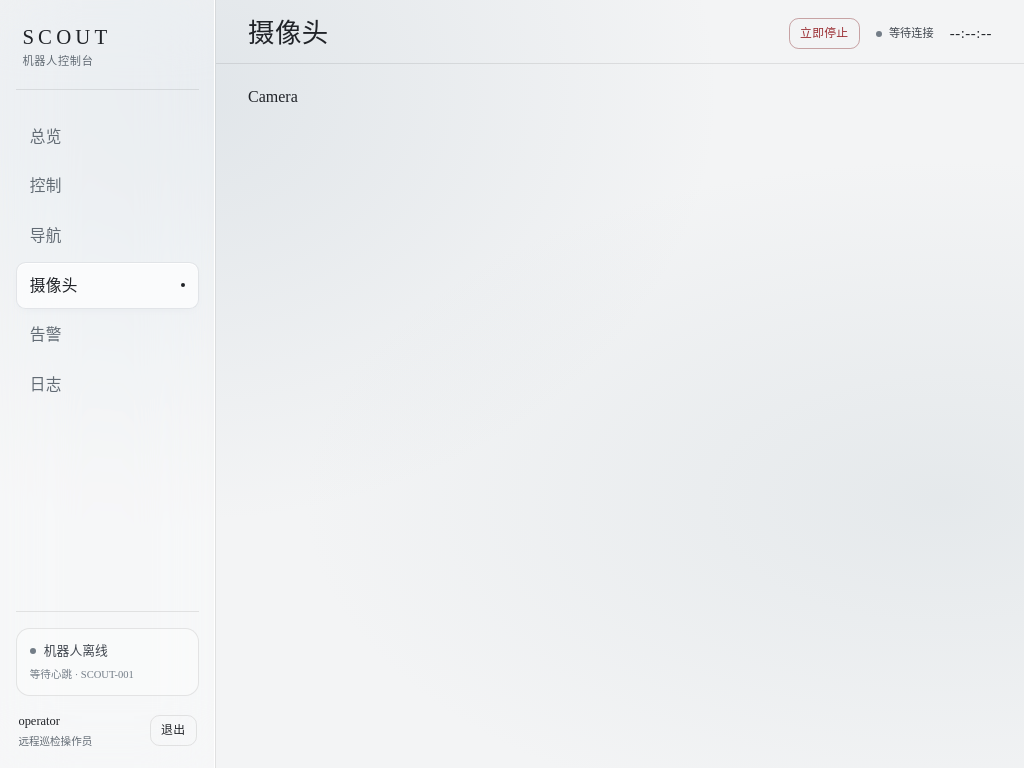
it: global robot stop › remains available on the camera page, including when status is offline
Step 1. Click the button "立即停止" → click(824, 34), box [789,18,860,49]
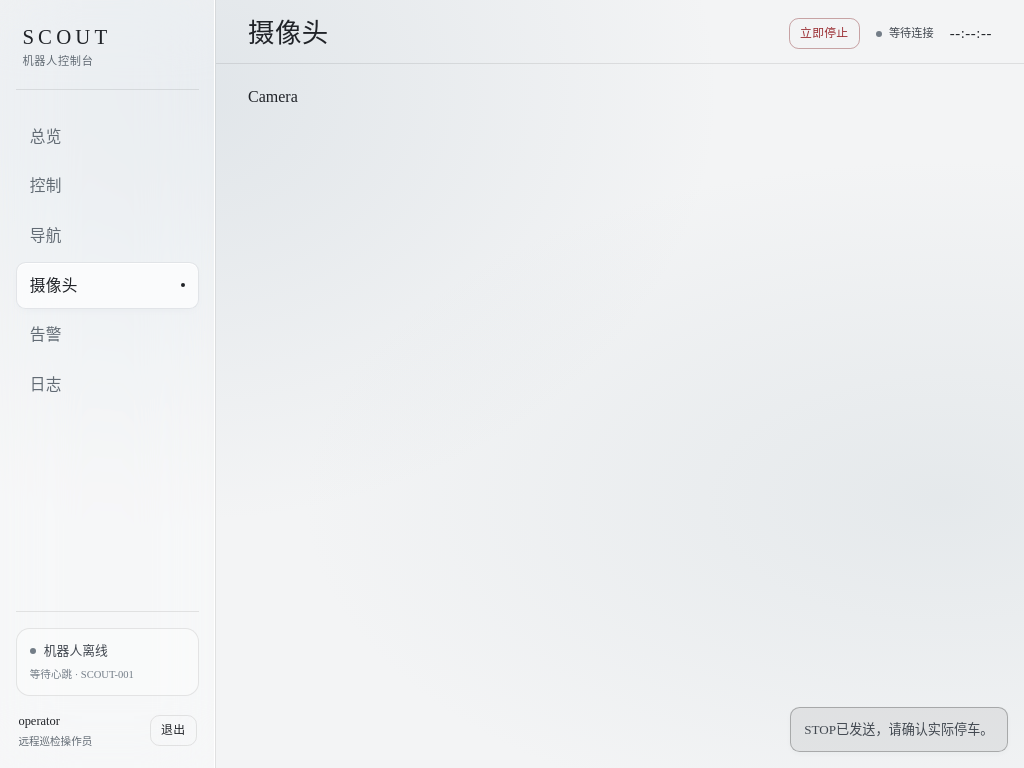
Expected: the message shows "STOP已发送", [804,722,993,737]
